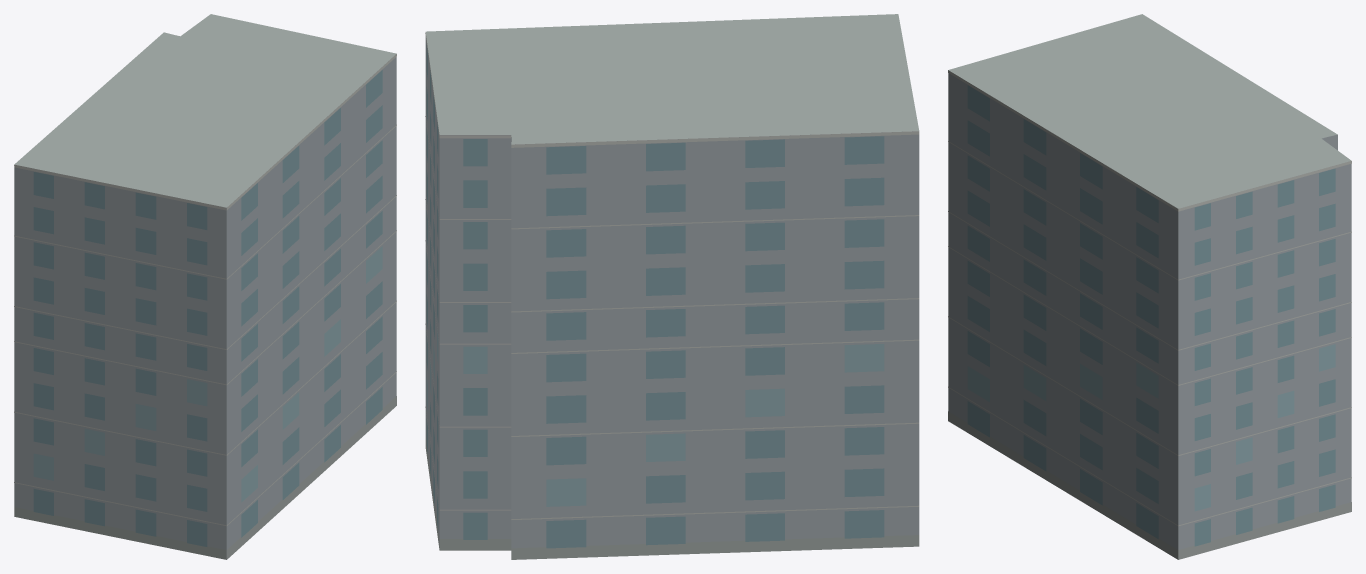
Rendered from survey-upis-32975790.glb.
The picture shows the model from 3 angles, left to right: view 1: azimuth 30°, elevation 25°; view 2: azimuth 150°, elevation 25°; view 3: azimuth 270°, elevation 25°; orthographic projection. The views are drawn at different scales.
Parts seen in each view (by area): view 1: survey-upis-32975790.tmp; view 2: survey-upis-32975790.tmp; view 3: survey-upis-32975790.tmp.
Boxes of the visible parts, box(x1,y1,x2,y2) form: survey-upis-32975790.tmp: box(14, 14, 396, 559); survey-upis-32975790.tmp: box(425, 14, 919, 559); survey-upis-32975790.tmp: box(948, 14, 1351, 559).
Size of the model in its own units: 36.33 by 30.5 by 31.81.
